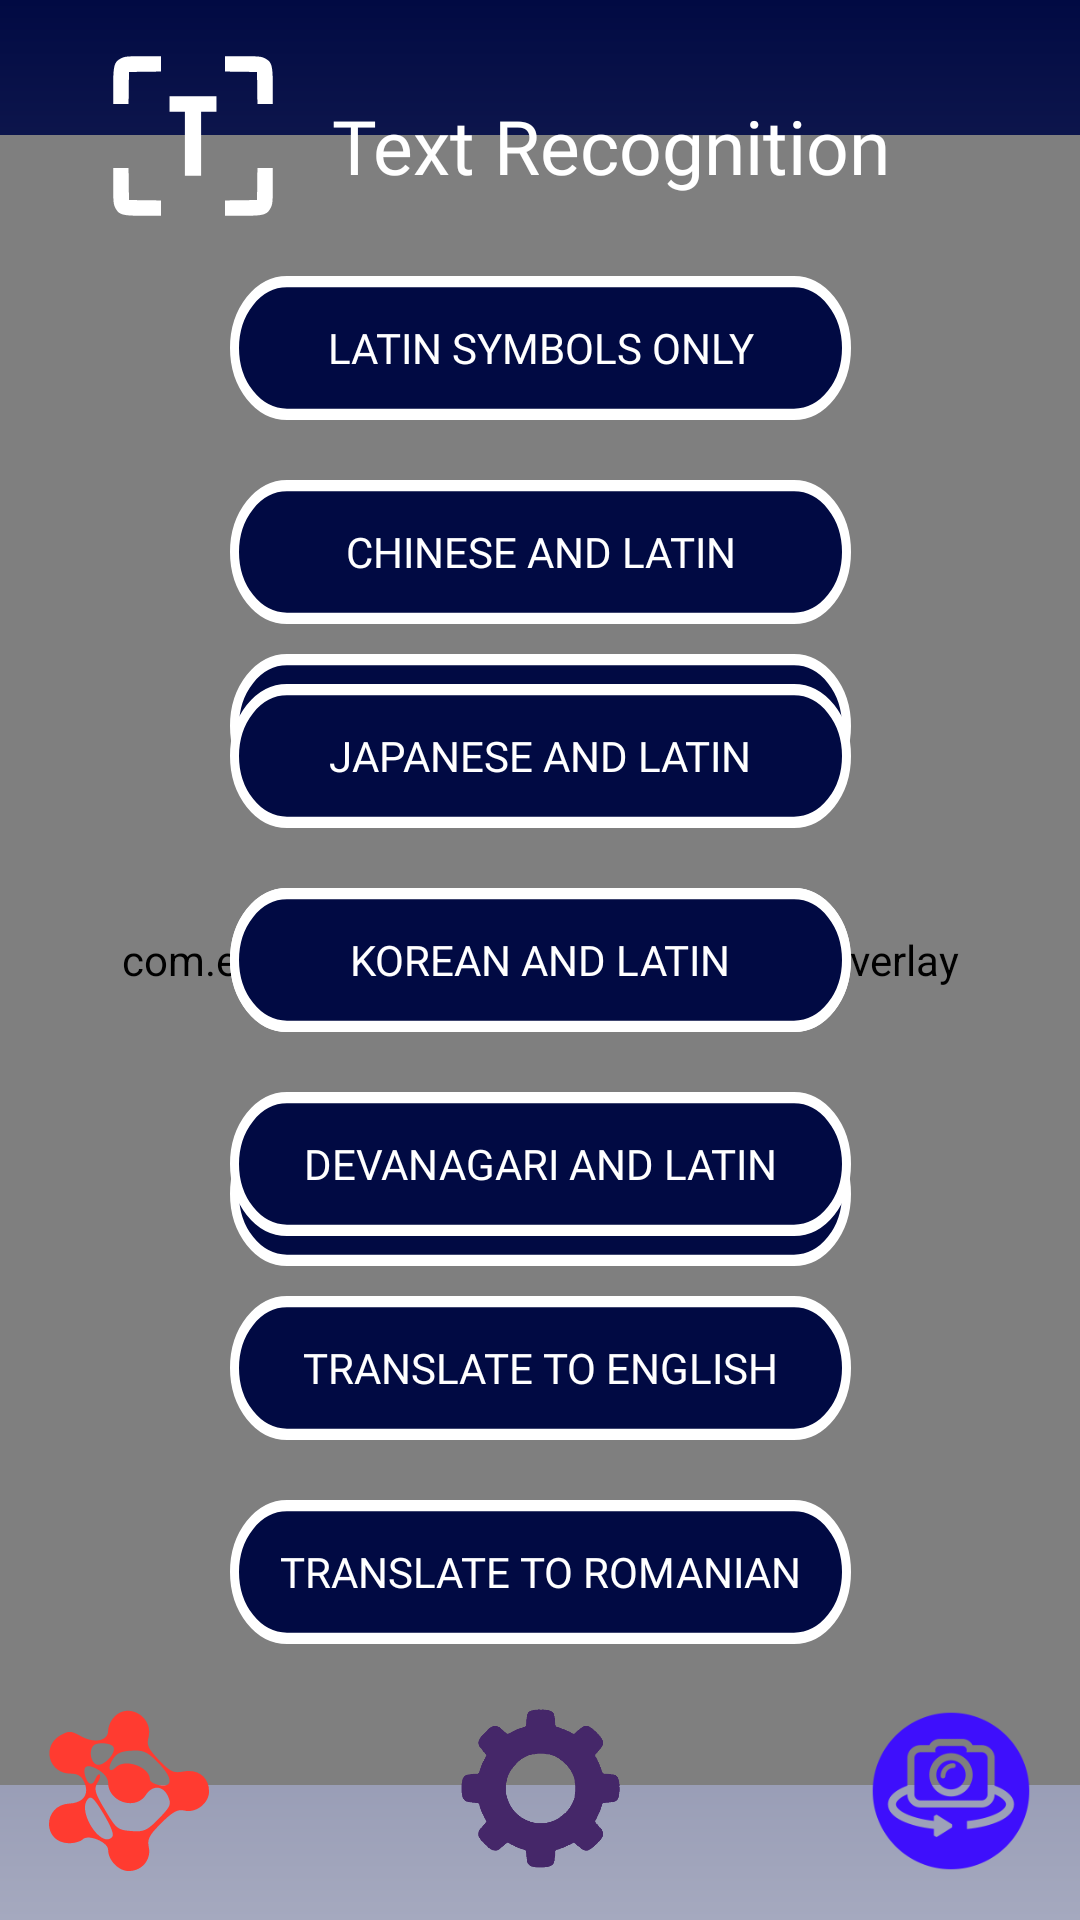

Named icons in this screenshot (1080 × 1920) and their centers, (x,y):
settings cog: (538,1791)
switch camera: (951,1791)
text activity: (193,136)
